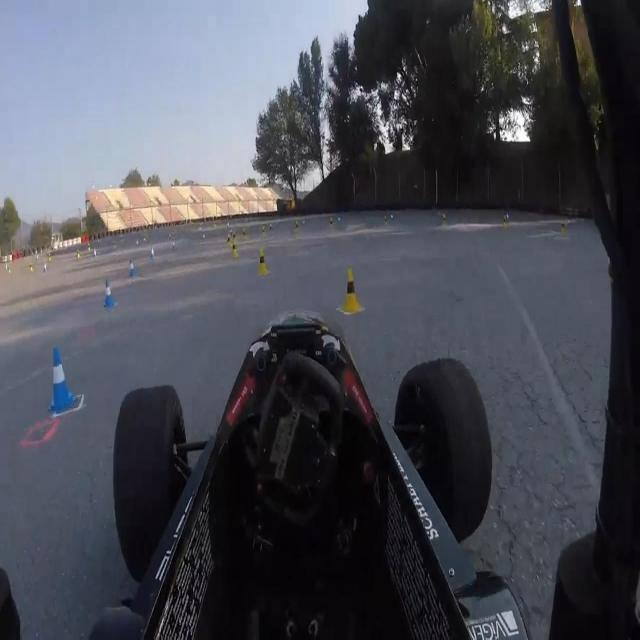blue_cone: (48, 346, 74, 412), (104, 279, 115, 309), (128, 260, 135, 276), (150, 244, 155, 264)
yellow_cone: (342, 268, 362, 314), (257, 247, 269, 278), (230, 239, 238, 259), (560, 218, 566, 239), (501, 213, 507, 229)
